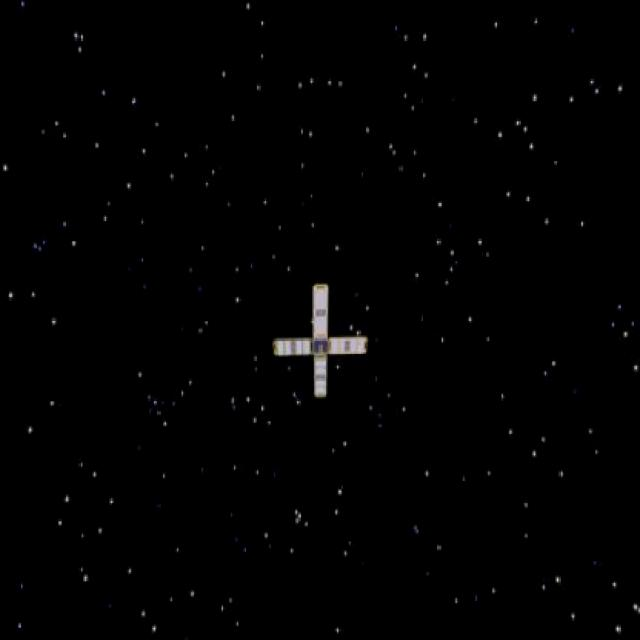satellite: (269, 277, 373, 406)
